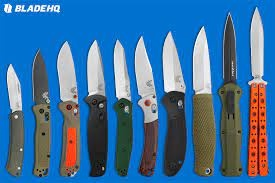knife: (217, 10, 244, 178), (159, 30, 189, 178), (189, 24, 217, 179), (246, 5, 270, 178), (133, 35, 160, 178), (83, 38, 110, 179), (55, 39, 81, 178), (112, 37, 135, 178), (30, 47, 52, 177), (4, 62, 25, 177)
